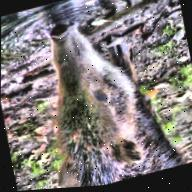boar: (15, 0, 182, 191)
